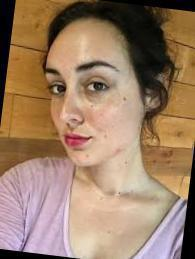Drunk: (49, 37, 132, 163)
